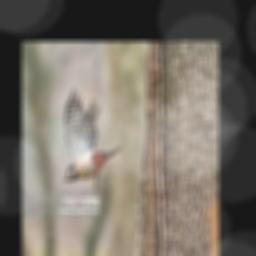Woodpecker: (63, 87, 121, 189)
